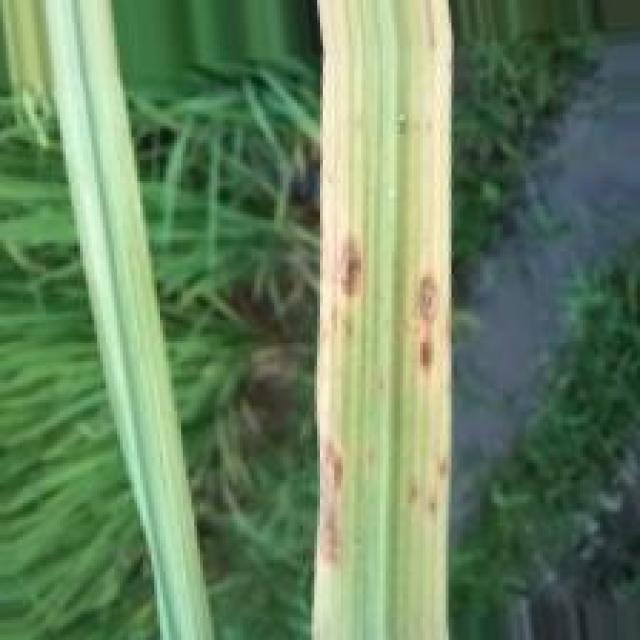Brown_Spot: (321, 424, 346, 565), (413, 264, 442, 378), (335, 224, 367, 306)
